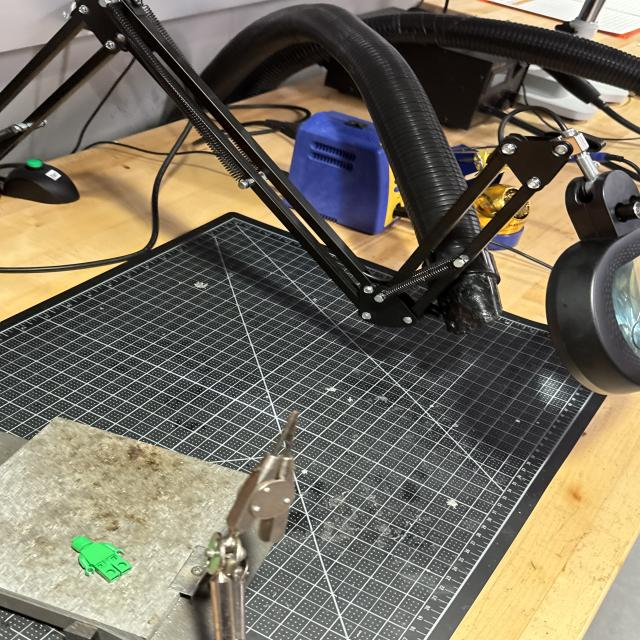Green Mini Figure: (72, 536, 131, 583)
